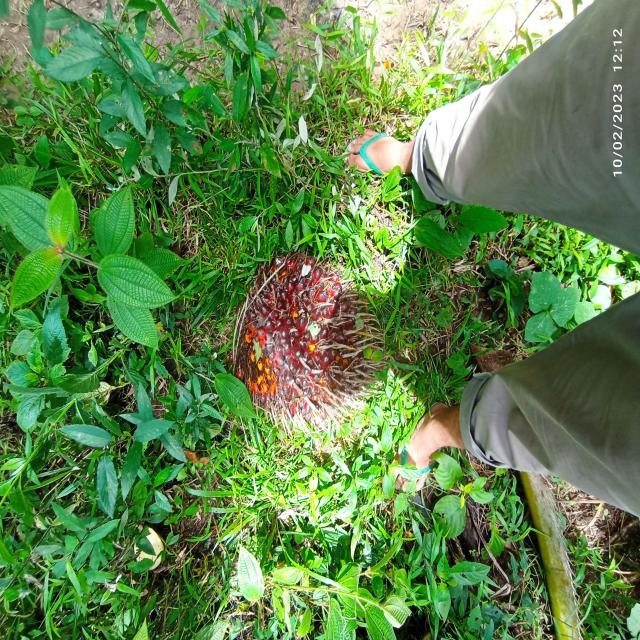fraksi 3: (192, 243, 417, 454)
